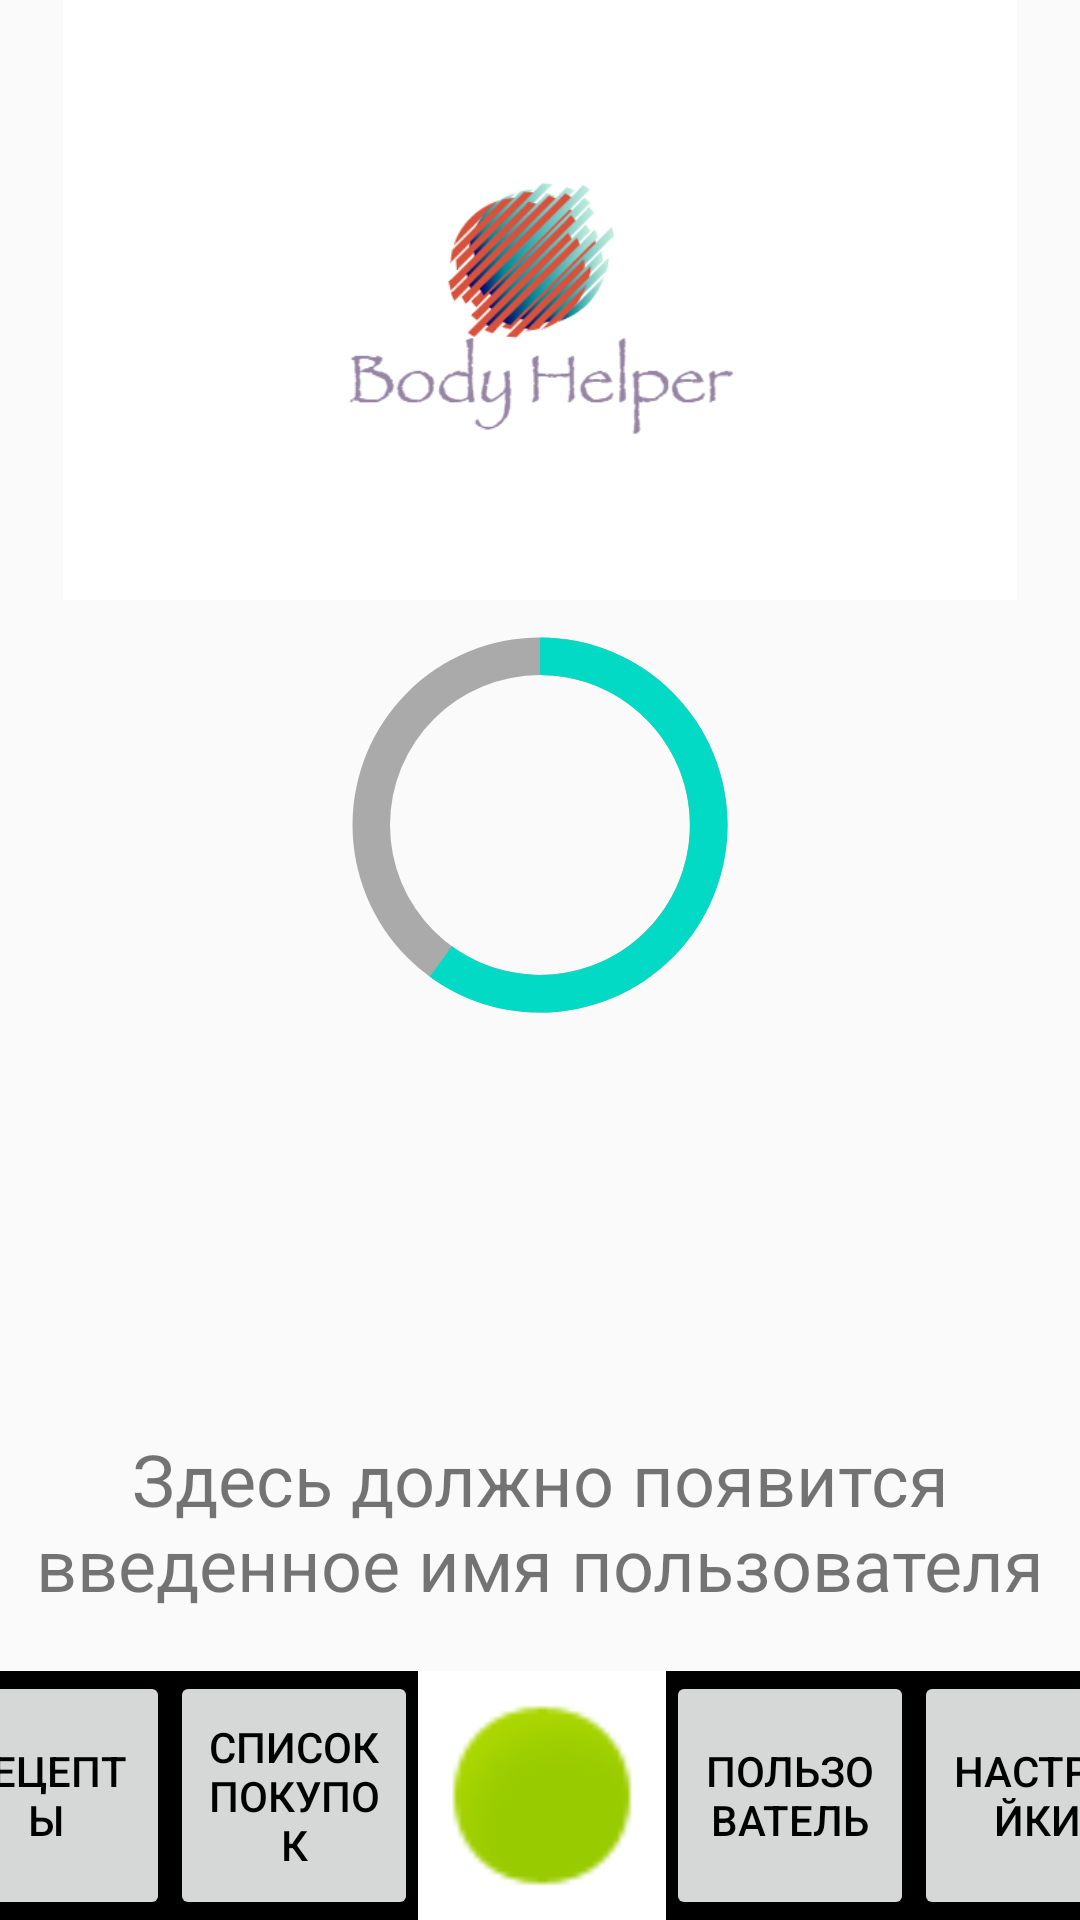

Icons on this 1080×1920 Android screen, each with its box as bbox=(x1, y1, x2, y2):
presence online: bbox=(452, 1706, 632, 1885)
